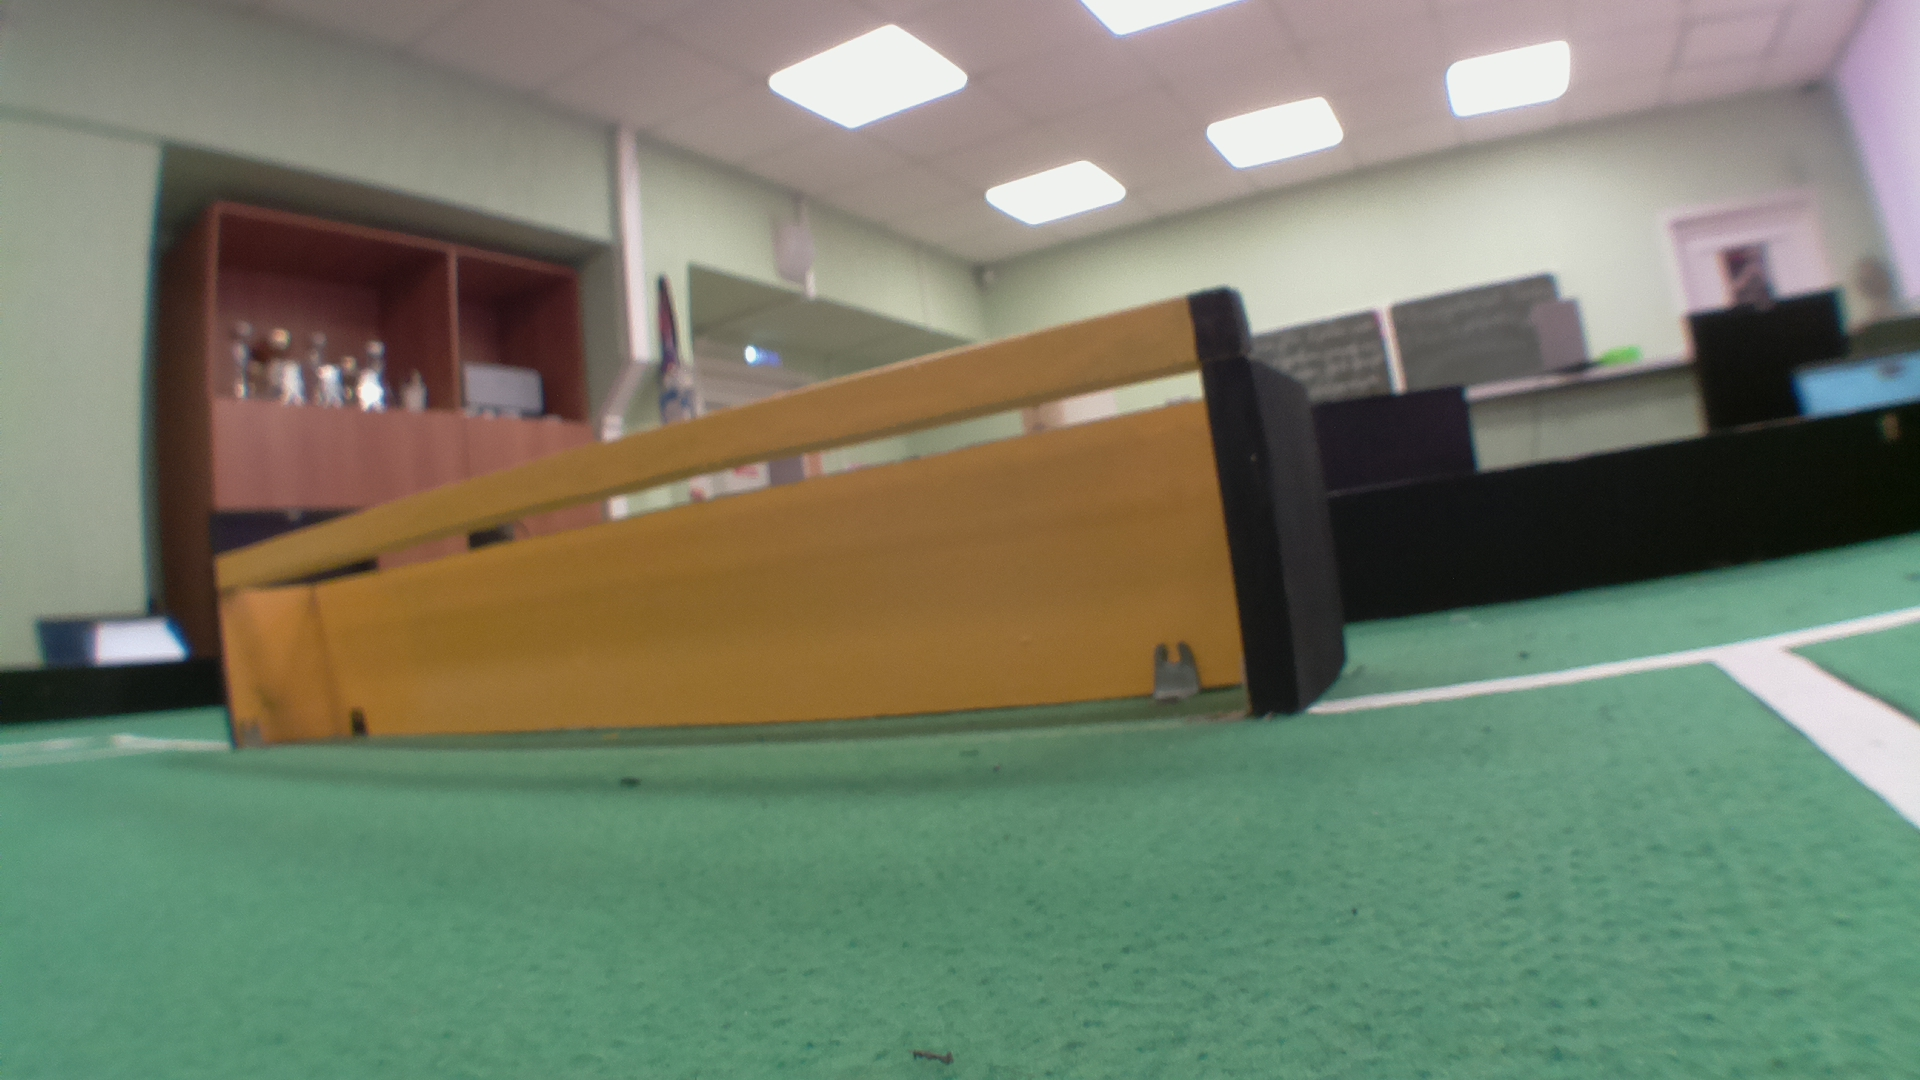YellowGoal: (222, 307, 1246, 719)
